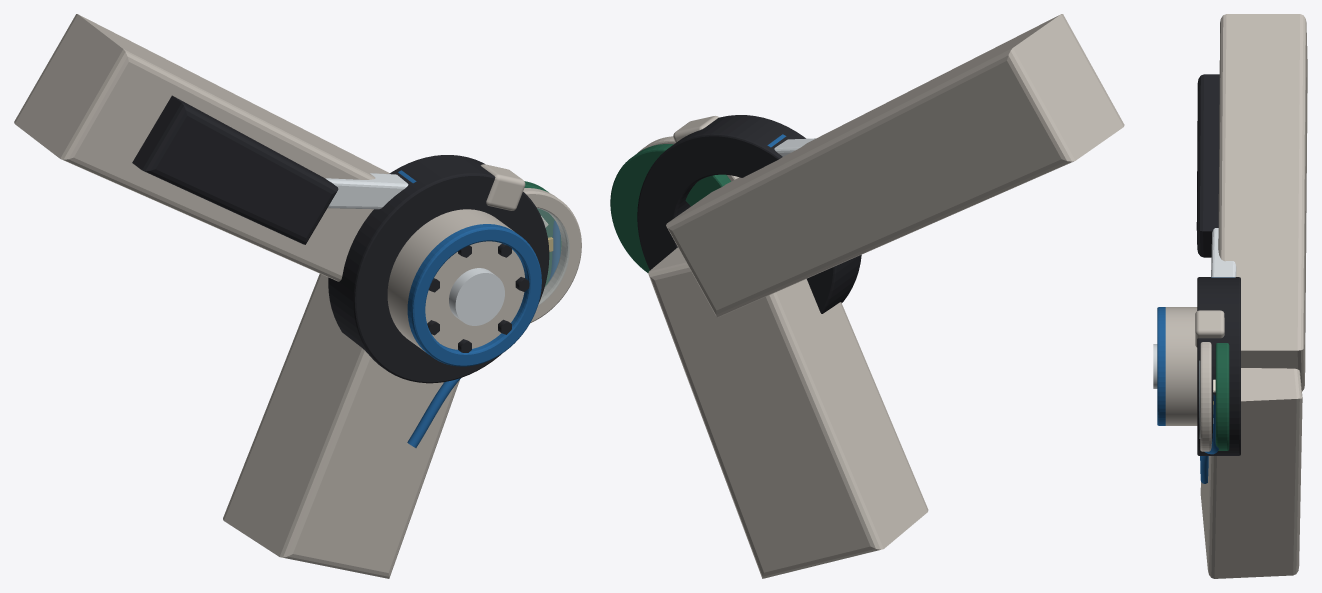
File: anatomy-23.glb
The picture shows the model from 3 angles, left to right: view 1: azimuth 30°, elevation 25°; view 2: azimuth 150°, elevation 25°; view 3: azimuth 270°, elevation 25°; orthographic projection. The views are drawn at different scales.
Parts seen in each view (by area): view 1: lower, upper, hinge, case, drive, encoder-window, rod, limit, wire; view 2: upper, lower, case, encoder; view 3: upper, lower, hinge, case, drive, encoder, encoder-window, limit, rod, wire.
Boxes of the visible parts, bbox=[...] form: lower: bbox=[223, 274, 459, 578]; upper: bbox=[14, 14, 389, 281]; hinge: bbox=[387, 209, 541, 366]; case: bbox=[328, 155, 549, 383]; drive: bbox=[132, 95, 338, 244]; encoder-window: bbox=[523, 188, 581, 322]; rod: bbox=[325, 170, 416, 209]; limit: bbox=[480, 164, 525, 210]; wire: bbox=[407, 221, 560, 447]; upper: bbox=[666, 14, 1124, 317]; lower: bbox=[648, 247, 928, 578]; case: bbox=[637, 115, 861, 313]; encoder: bbox=[610, 144, 730, 272]; upper: bbox=[1218, 14, 1307, 391]; lower: bbox=[1200, 368, 1302, 578]; hinge: bbox=[1153, 307, 1197, 425]; case: bbox=[1197, 277, 1240, 455]; drive: bbox=[1196, 74, 1219, 257]; encoder: bbox=[1213, 343, 1229, 450]; encoder-window: bbox=[1199, 342, 1211, 451]; limit: bbox=[1195, 310, 1224, 347]; rod: bbox=[1211, 228, 1236, 277]; wire: bbox=[1200, 394, 1218, 483].
Bounding box in the file's own units: 1.82 × 2.02 × 0.6072.
